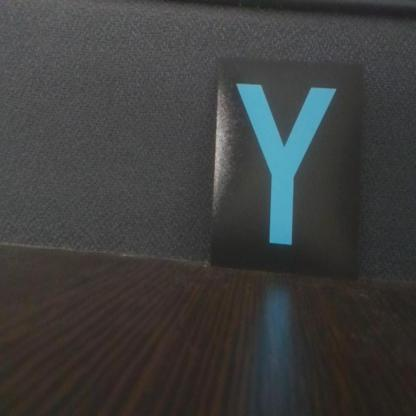y: (216, 56, 357, 275)
